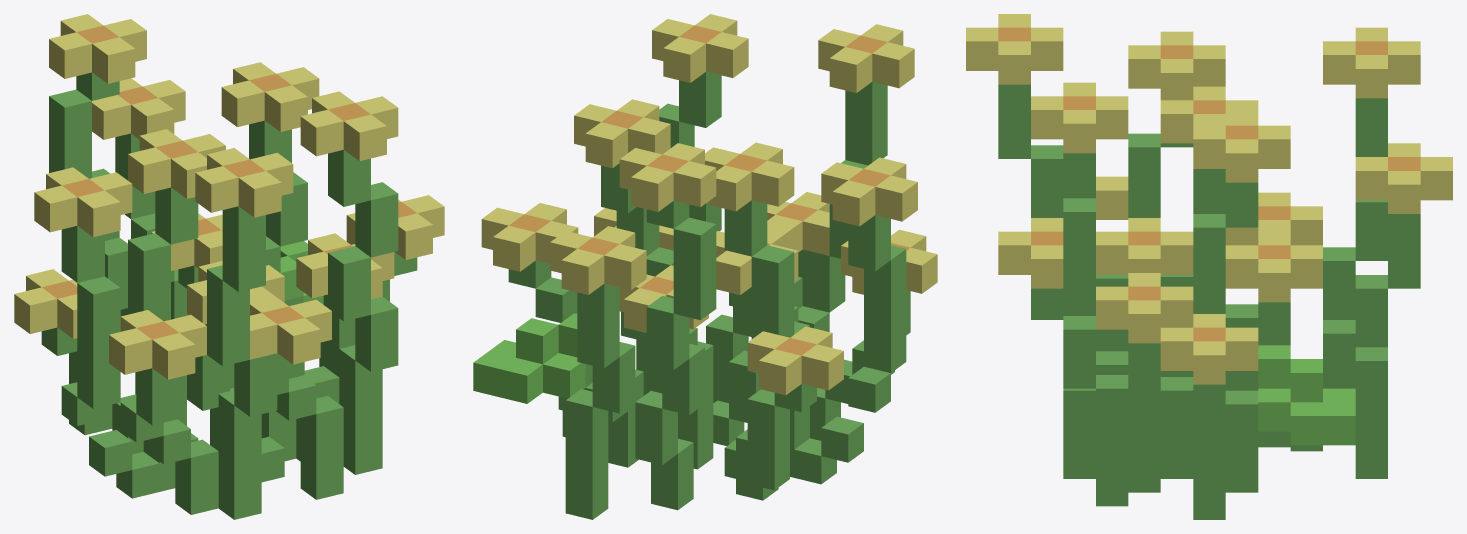
Rendered from Grass_d_v1.fbx.
3 views of the same model, side by side, from view 1: azimuth 30°, elevation 25°; view 2: azimuth 150°, elevation 25°; view 3: azimuth 270°, elevation 25° (orthographic). The views are drawn at different scales.
Parts seen in each view (by area): view 1: grass_d; view 2: grass_d; view 3: grass_d.
Part boxes in pixels (x1,y1,x2,y2): grass_d: [14, 14, 444, 519]; grass_d: [473, 14, 937, 519]; grass_d: [966, 14, 1452, 519].
Size of the model in its own units: 15 by 13 by 15.
